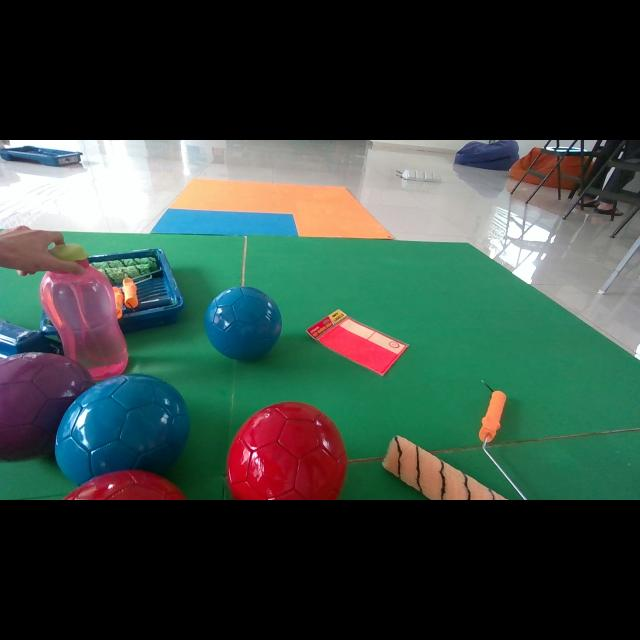B: (55, 375, 190, 485), (205, 286, 281, 360)
P: (0, 352, 94, 460)
R: (228, 401, 348, 499), (64, 470, 186, 500)
